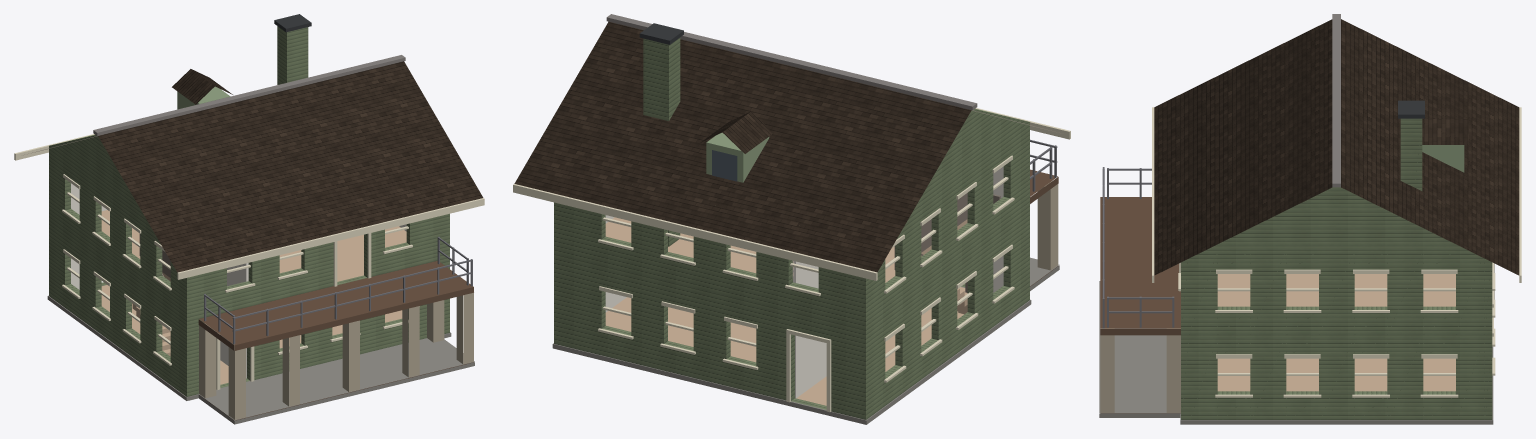
Rendered from rw-craftsman.towns-v2.lod0.glb.
3 views of the same model, side by side, from view 1: azimuth 30°, elevation 25°; view 2: azimuth 150°, elevation 25°; view 3: azimuth 270°, elevation 25° (orthographic). The views are drawn at different scales.
Parts seen in each view (by area): view 1: rw-craftsman; view 2: rw-craftsman; view 3: rw-craftsman.
Part boxes in pixels (x1=…): rw-craftsman: x1=14, y1=14, x2=484, y2=424; rw-craftsman: x1=513, y1=14, x2=1070, y2=424; rw-craftsman: x1=1099, y1=14, x2=1521, y2=424.
Size of the model in its own units: 12.9 by 10.17 by 13.57.
Materials: 5 (2 with a texture image).
